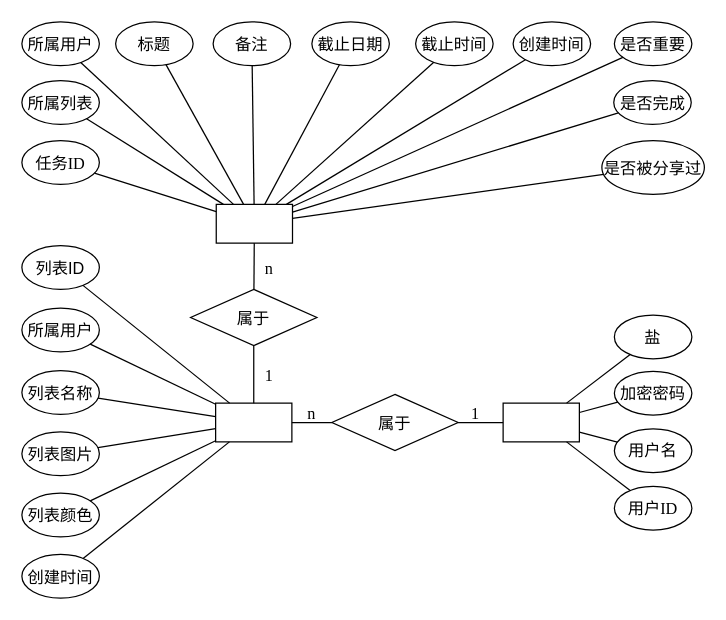
The diagram is 726 pixels wide and 620 high, and some of its shapes have lost their labels. Each missing label, with the centre of its shape:
任务: (x=253, y=223)
列表: (x=253, y=422)
用户: (x=540, y=422)
